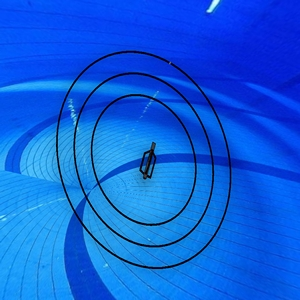circle: (56, 49, 236, 272)
submarine: (138, 140, 161, 184)
